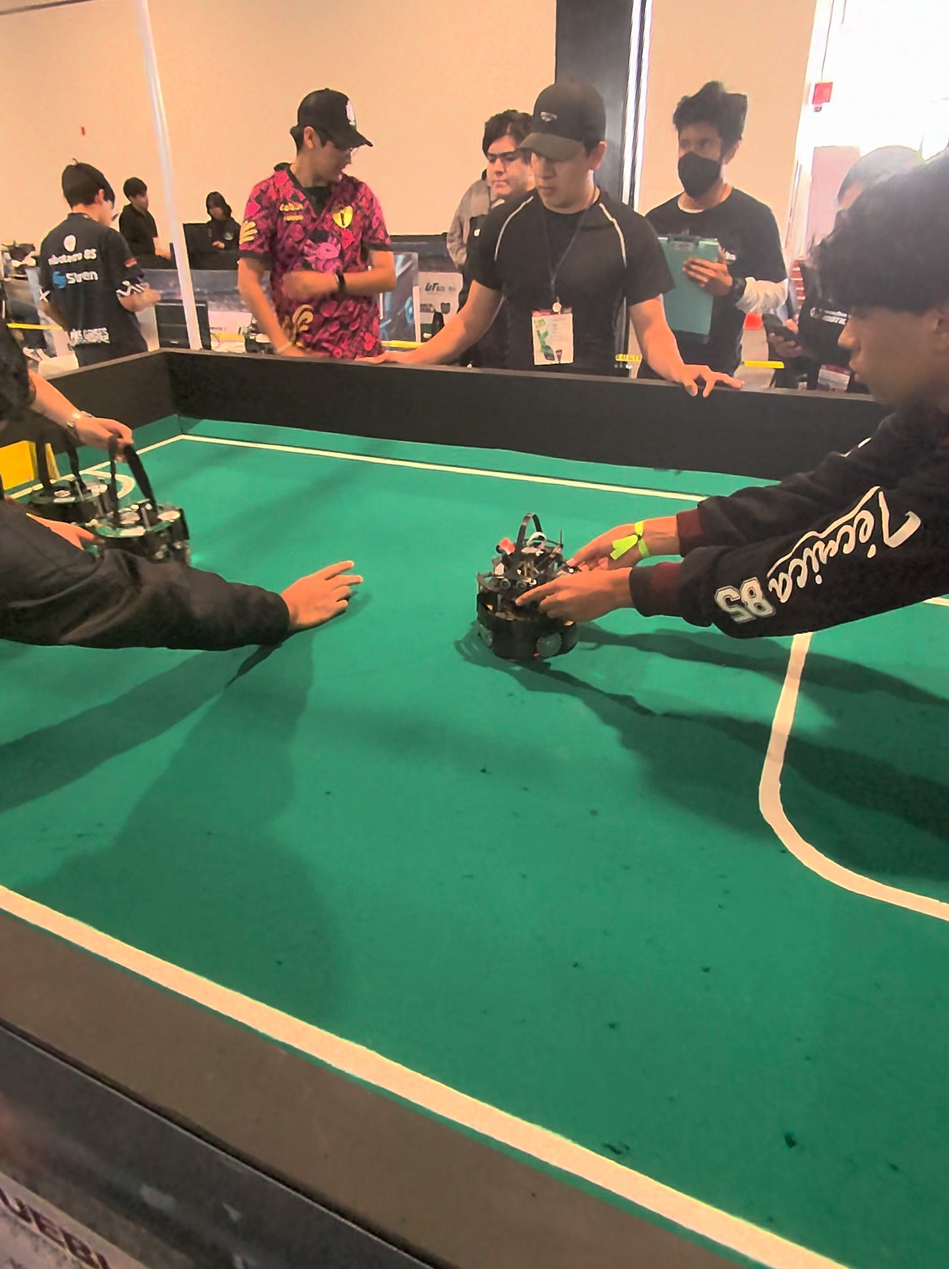Robot: (471, 511, 582, 678), (85, 418, 195, 578)
